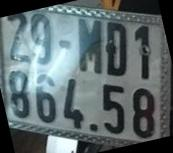-: (57, 39, 73, 50)
.: (88, 122, 100, 134)
1: (134, 23, 152, 81)
2: (7, 13, 32, 64)
4: (61, 78, 85, 129)
5: (103, 82, 126, 134)
6: (35, 72, 59, 124)
8: (8, 70, 32, 119), (133, 87, 156, 138)
9: (31, 13, 53, 64)
D: (106, 21, 129, 78)
M: (78, 17, 103, 76)
